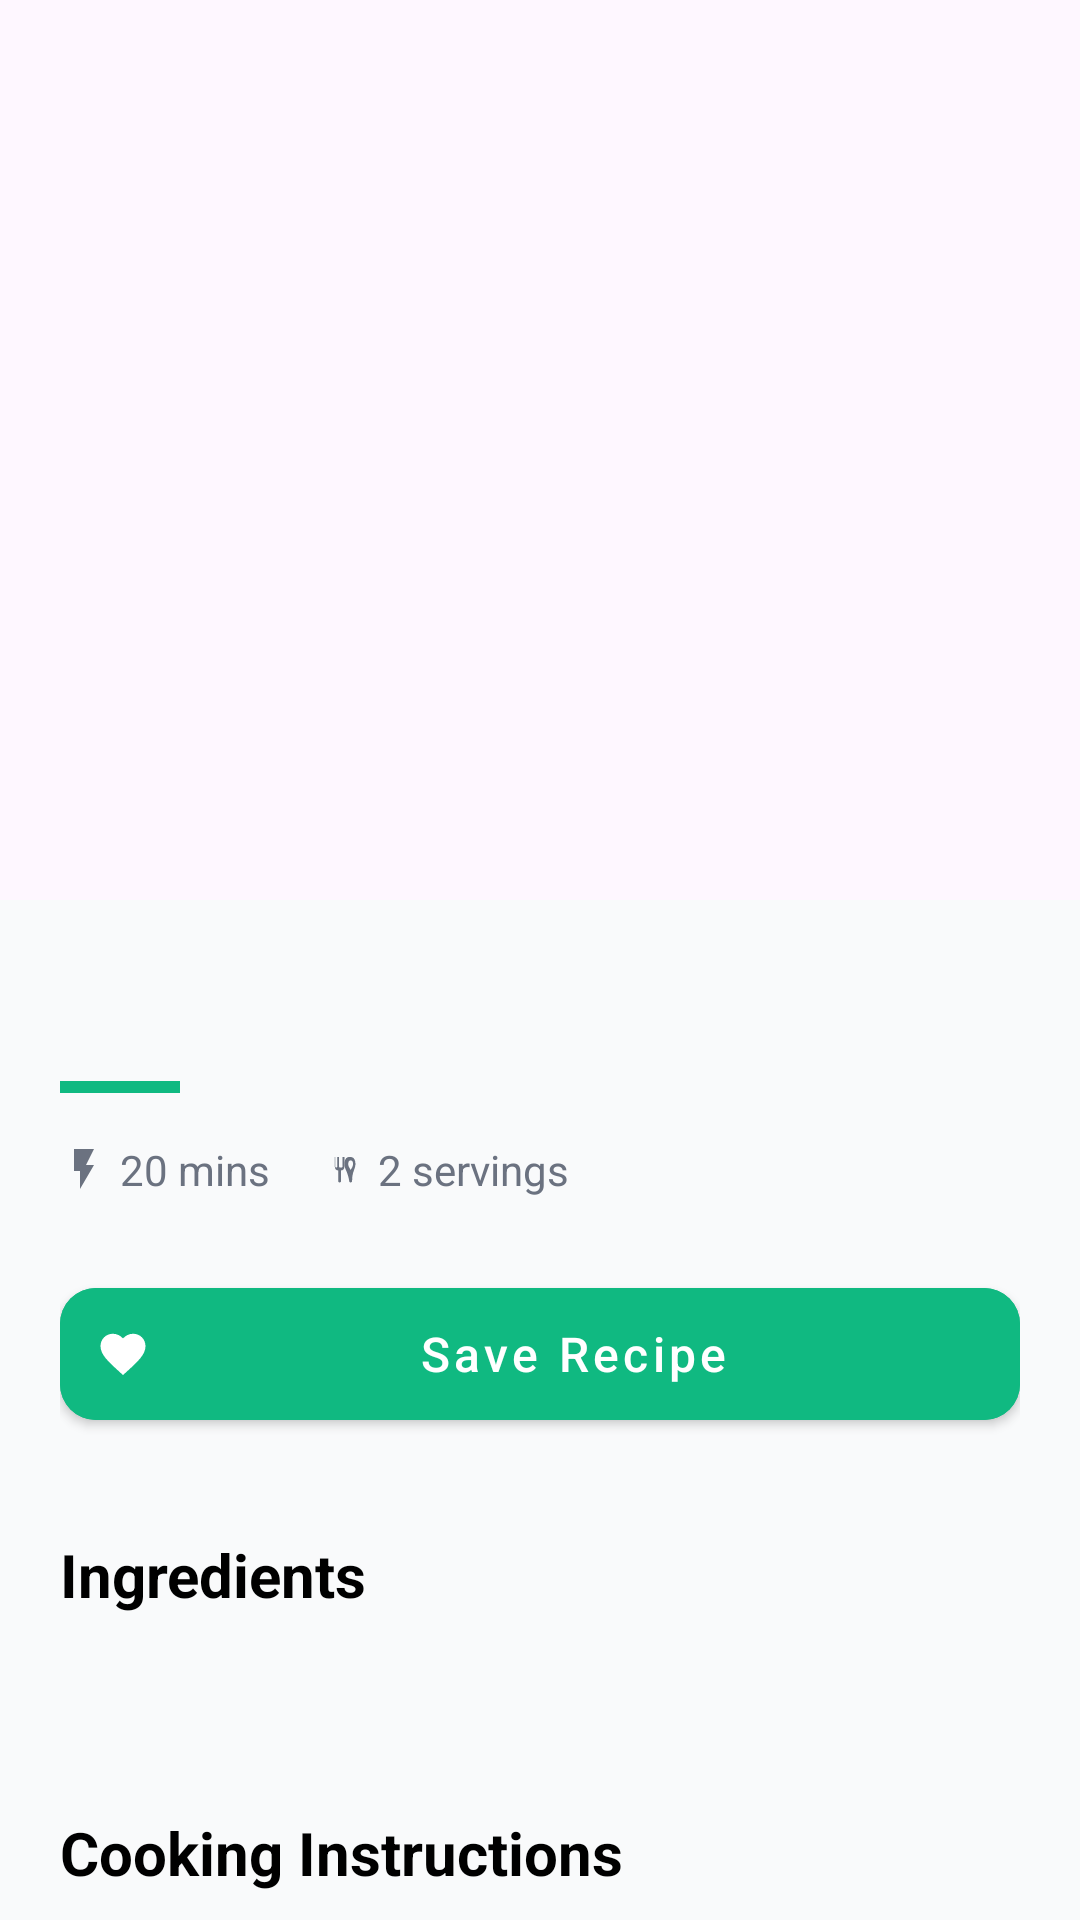

Screen size 1080×1920. Icon name, then its center in pixels as point (x, y):
lightning: point (84, 1169)
